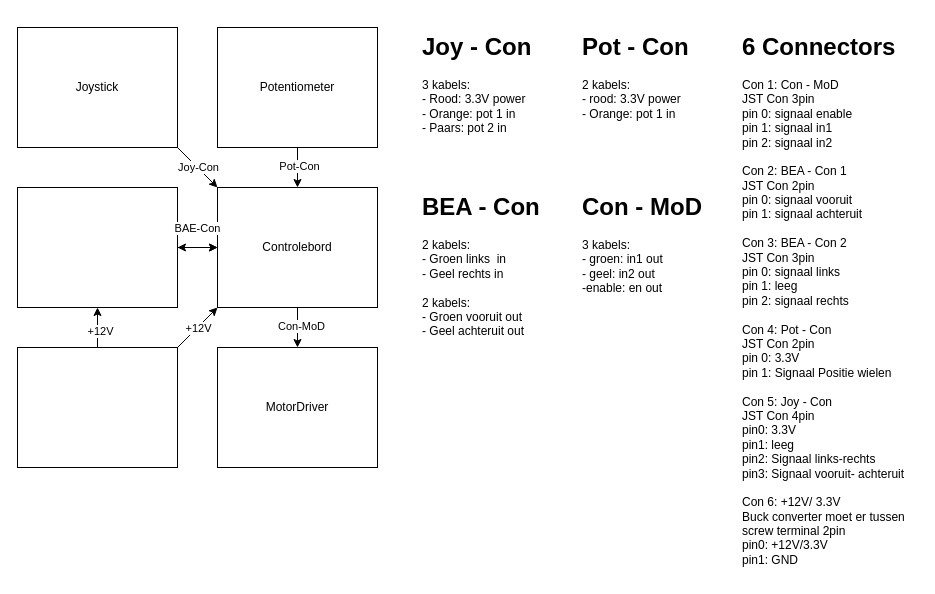
This 935x594 diagram has some shape labels left out. The centre of each missing label's shape, as x and y in pixels:
Baby auto elektronica: point (97, 247)
batterij: point (97, 407)
